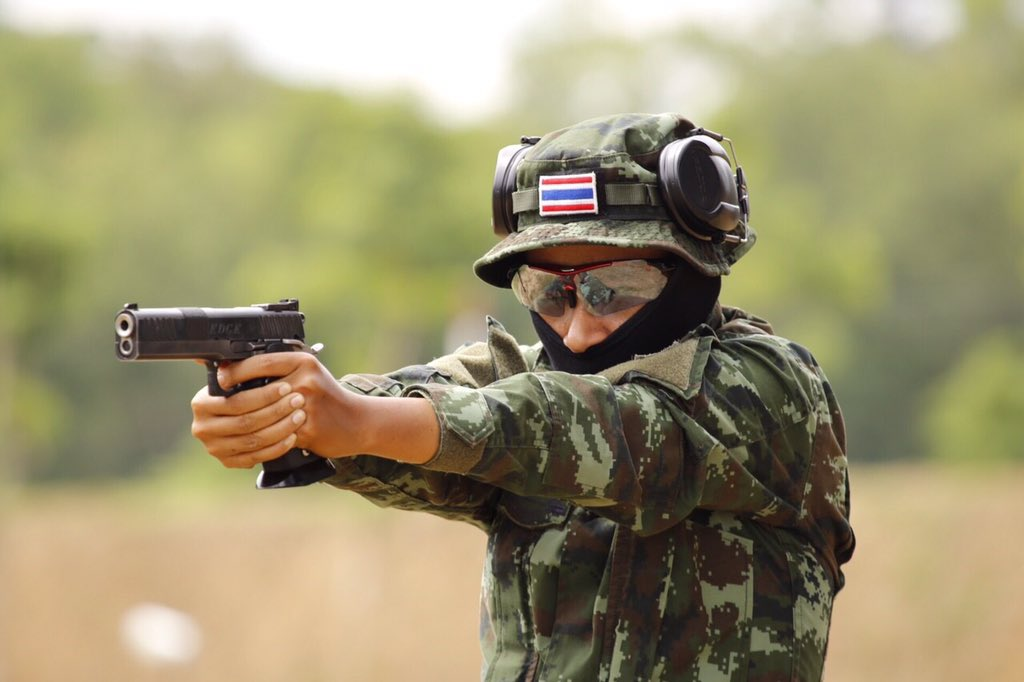gun: (102, 290, 352, 495)
